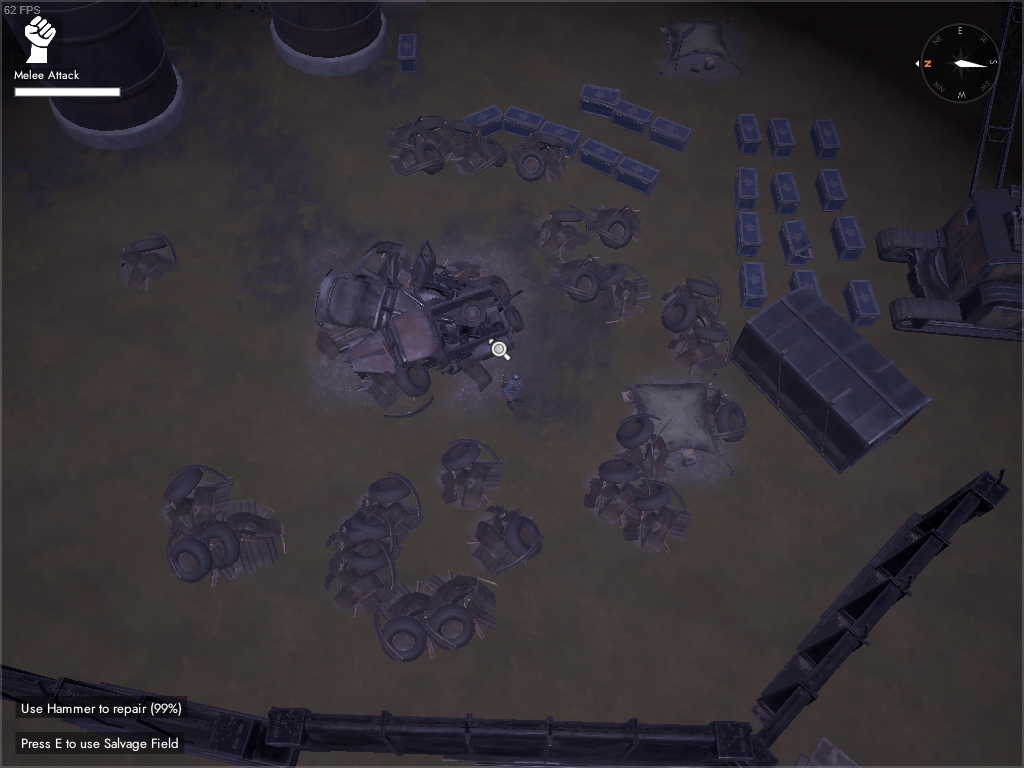container: (727, 282, 939, 478)
crane: (874, 2, 1024, 346)
fortified_wall: (723, 465, 1015, 768), (262, 703, 756, 768), (1, 660, 303, 765)
foxhole: (616, 374, 742, 483), (649, 11, 754, 86)
pillbox: (789, 733, 864, 768)
player: (499, 371, 529, 413)
scrap: (160, 463, 289, 590), (585, 417, 694, 554), (327, 474, 423, 614), (377, 572, 501, 663), (384, 112, 510, 180), (663, 273, 736, 382), (549, 252, 651, 328), (533, 197, 644, 258), (429, 438, 508, 509), (469, 505, 546, 576), (115, 229, 180, 291), (510, 128, 578, 186), (688, 387, 749, 450)
scrapyard: (310, 239, 527, 425)
storage_box: (575, 133, 627, 181), (840, 275, 883, 333), (499, 98, 551, 145), (533, 116, 586, 162), (775, 215, 820, 269), (605, 94, 660, 138), (808, 165, 854, 217), (827, 213, 870, 267), (611, 150, 661, 195), (805, 113, 847, 166), (761, 107, 801, 162), (643, 113, 694, 155), (575, 79, 627, 120), (458, 102, 510, 141), (734, 259, 770, 311), (787, 266, 829, 309), (729, 111, 766, 159), (730, 163, 764, 214), (732, 211, 764, 261), (393, 27, 421, 77)
